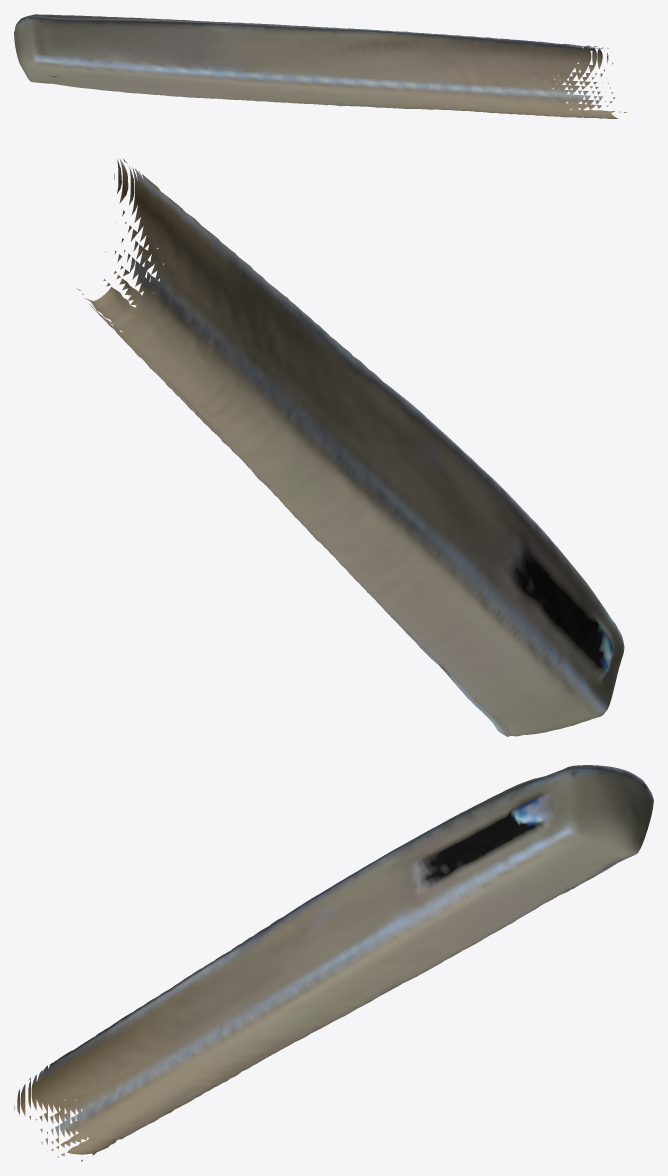
3 views of the same model, one above another, from view 1: azimuth 30°, elevation 25°; view 2: azimuth 150°, elevation 25°; view 3: azimuth 270°, elevation 25° (orthographic). The views are drawn at different scales.
Visible parts, largest first — view 1: world; view 2: world; view 3: world.
Part boxes in pixels (box(x1,y1,x2,y2)): world: box(14, 14, 626, 118); world: box(76, 159, 624, 736); world: box(14, 765, 653, 1161).
Bounding box in the file's own units: 29.12 × 4 × 24.66.
